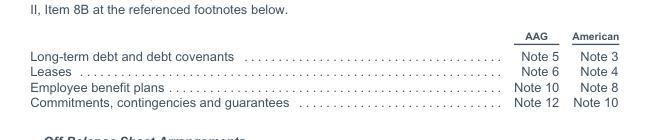table: (29, 29, 618, 108)
table column: (29, 29, 400, 108), (400, 29, 564, 108), (564, 29, 618, 108)
table column header: (29, 29, 618, 44)
table row: (29, 44, 618, 62), (29, 62, 618, 78), (29, 29, 618, 44), (29, 78, 618, 93), (29, 93, 618, 108)
